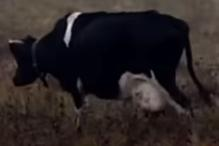cow: (11, 11, 190, 130)
